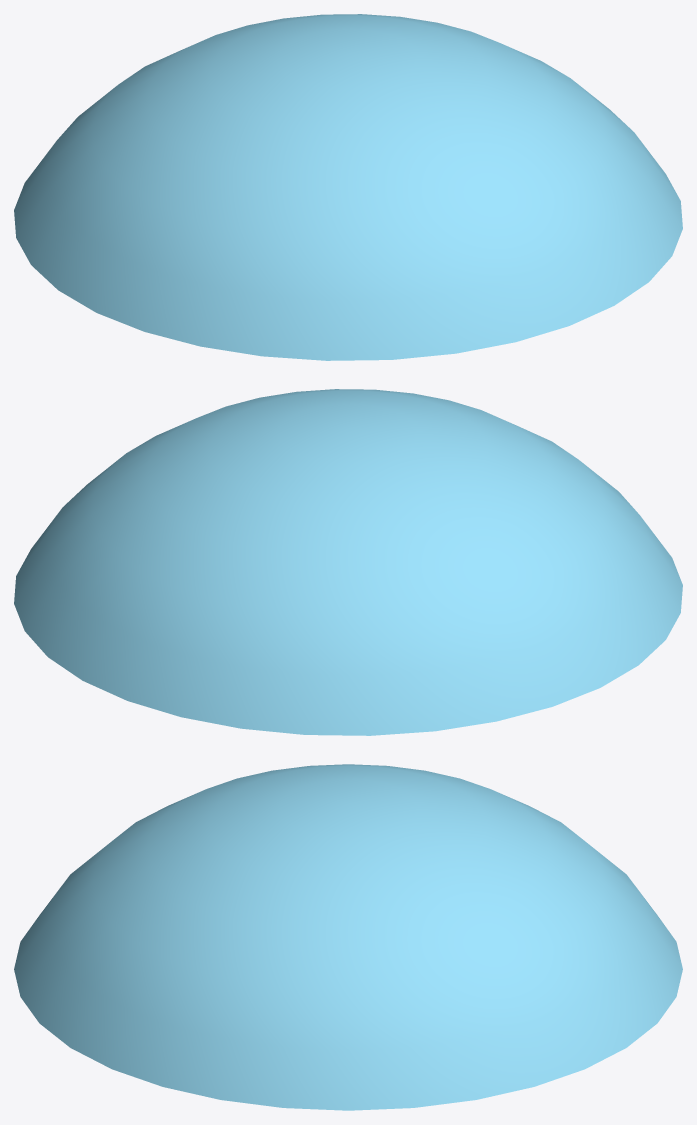
File: Half_Ball.FBX
3 renders of one model, top to bottom at view 1: azimuth 30°, elevation 25°; view 2: azimuth 150°, elevation 25°; view 3: azimuth 270°, elevation 25°, orthographic.
Visible parts, largest first — view 1: Half_Ball; view 2: Half_Ball; view 3: Half_Ball.
Boxes of the visible parts, <box> form: Half_Ball: <box>14,14,682,360</box>; Half_Ball: <box>14,389,682,735</box>; Half_Ball: <box>14,764,682,1110</box>.
Size of the model in its own units: 59.59 by 16.24 by 59.59.
